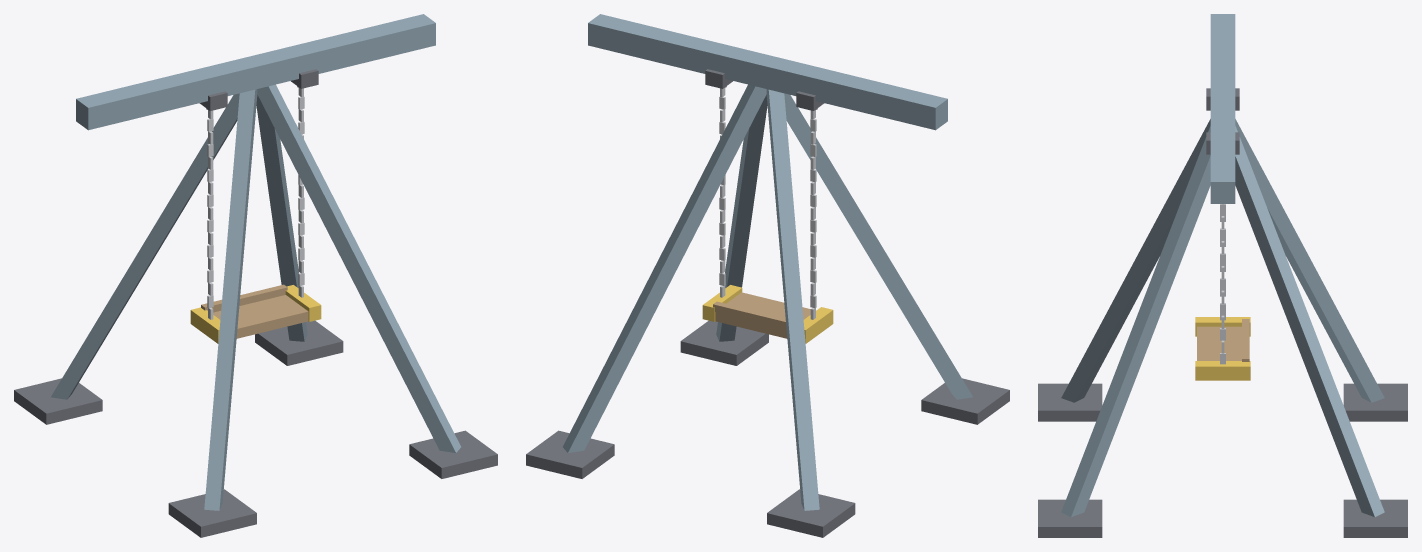
File: animated-mechanisms-kit-chain-swing-4ed02165__24644.glb
3 views of the same model, side by side, from view 1: azimuth 30°, elevation 25°; view 2: azimuth 150°, elevation 25°; view 3: azimuth 270°, elevation 25° (orthographic).
Visible parts, largest first — view 1: chain-swing, swing/timber, swing/steel, swing/accent; view 2: chain-swing, swing/steel, swing/timber, swing/accent; view 3: chain-swing, swing/timber, swing/accent, swing/steel.
Boxes of the visible parts, left/top/right/bottom form: chain-swing: left=14, top=14, right=497, bottom=537; swing/timber: left=201, top=284, right=308, bottom=338; swing/steel: left=207, top=88, right=304, bottom=319; swing/accent: left=190, top=285, right=321, bottom=343; chain-swing: left=526, top=14, right=1009, bottom=537; swing/steel: left=719, top=88, right=816, bottom=319; swing/timber: left=713, top=292, right=810, bottom=338; swing/accent: left=702, top=285, right=833, bottom=343; chain-swing: left=1038, top=14, right=1407, bottom=537; swing/timber: left=1197, top=319, right=1249, bottom=361; swing/accent: left=1195, top=317, right=1250, bottom=380; swing/steel: left=1220, top=204, right=1225, bottom=364.
Bounding box in the file's own units: 2.6 × 2.66 × 2.42.
